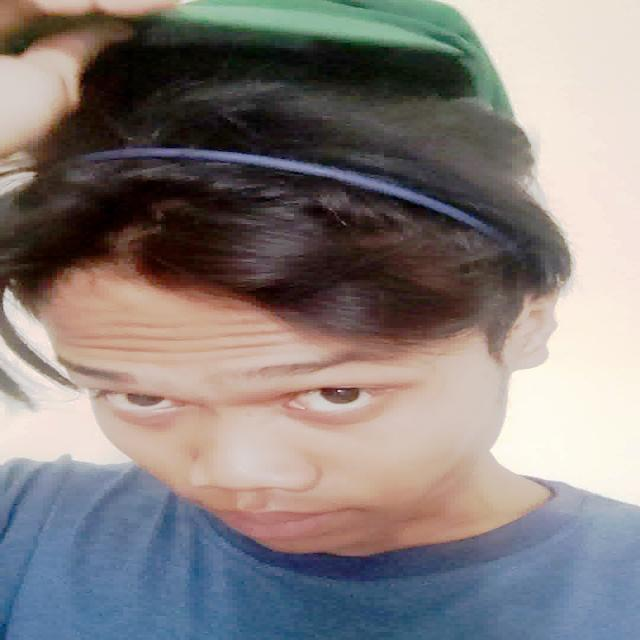TOPI: (85, 0, 537, 85)
